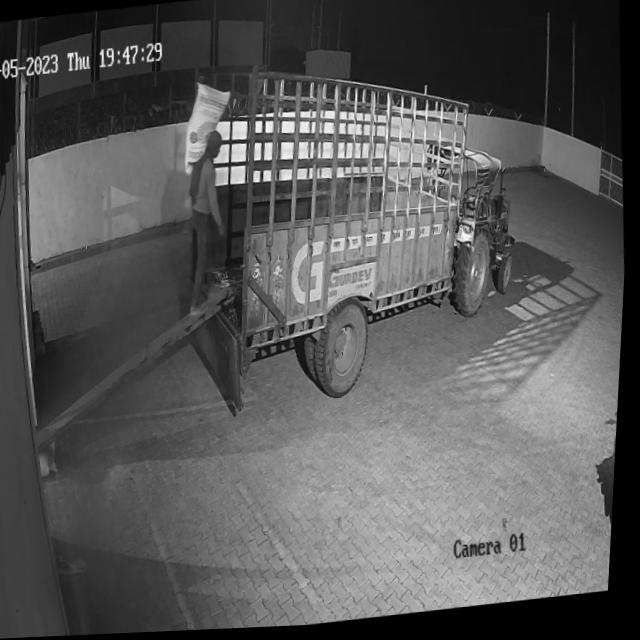sack: (180, 81, 238, 178)
